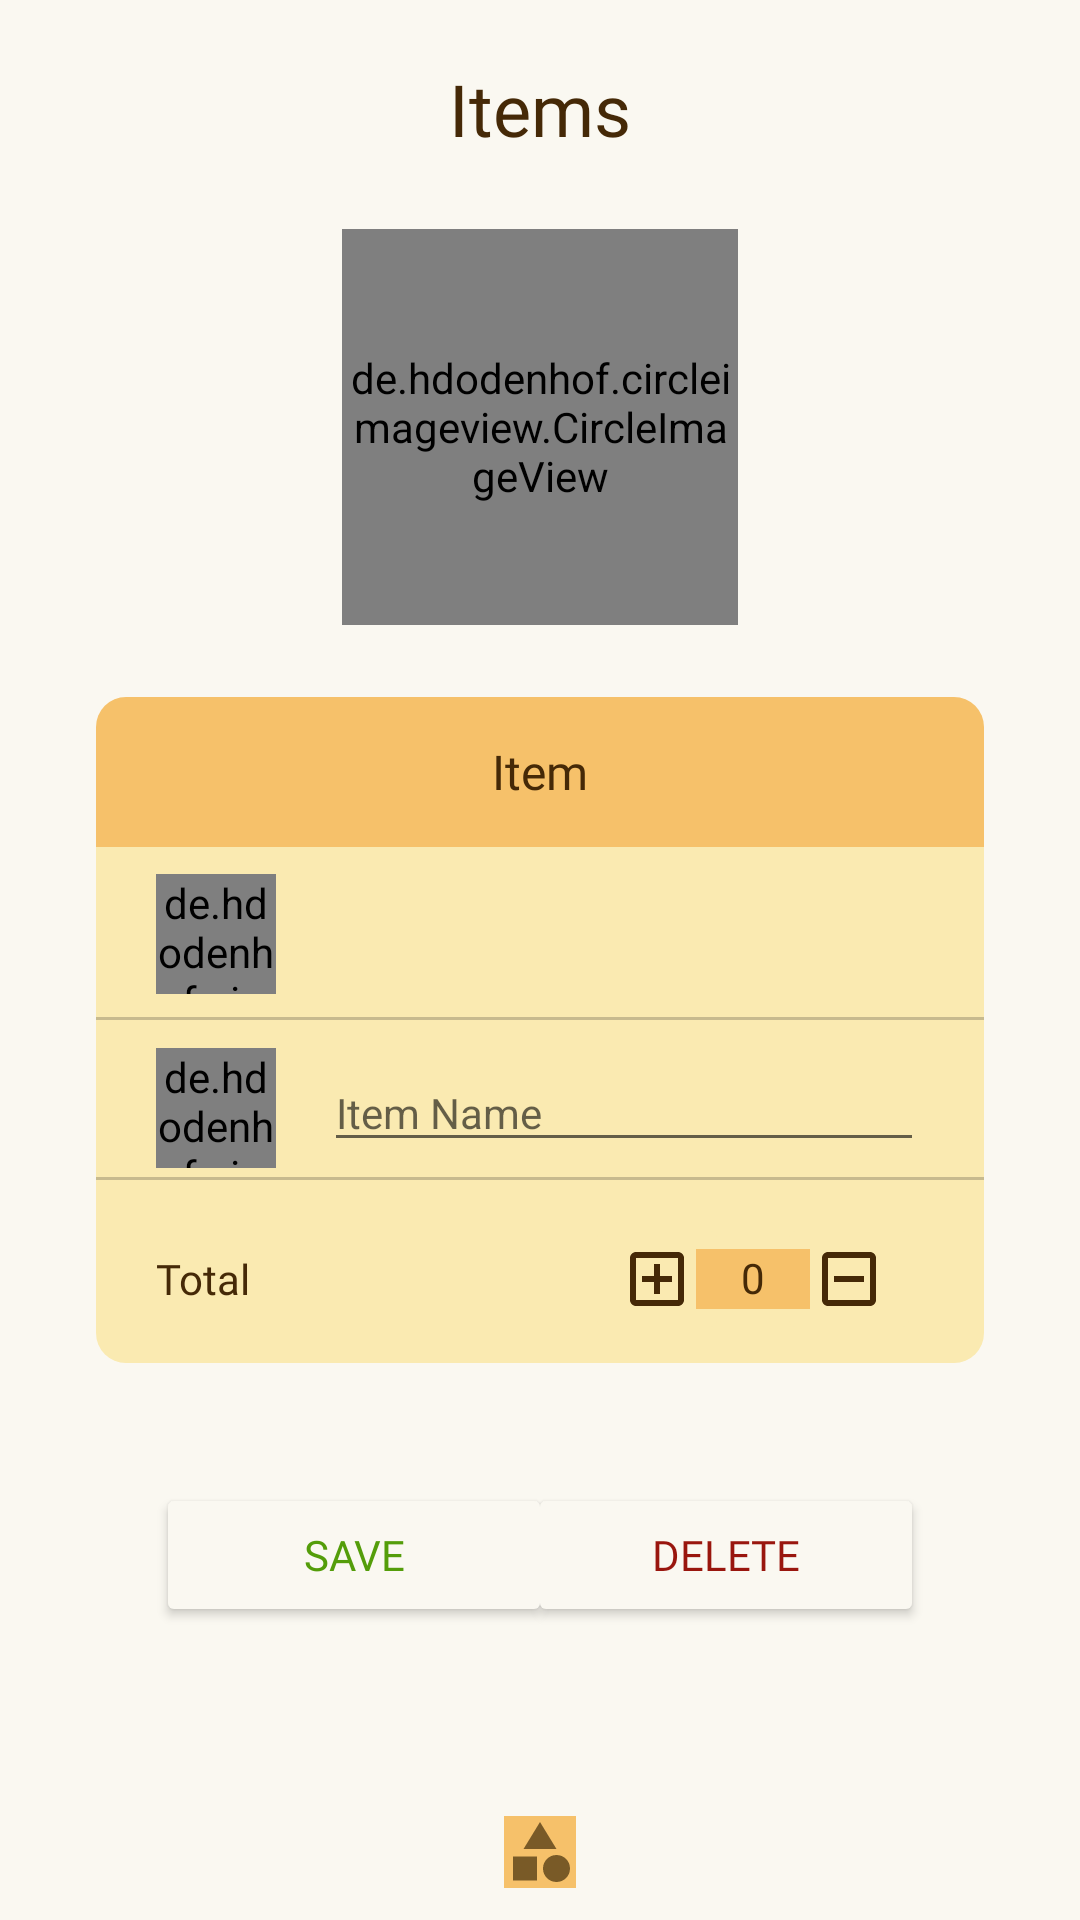

Where to tap for icons on this 1080 × 1920 app screen, as point (x, y):
category brown: point (540, 1852)
